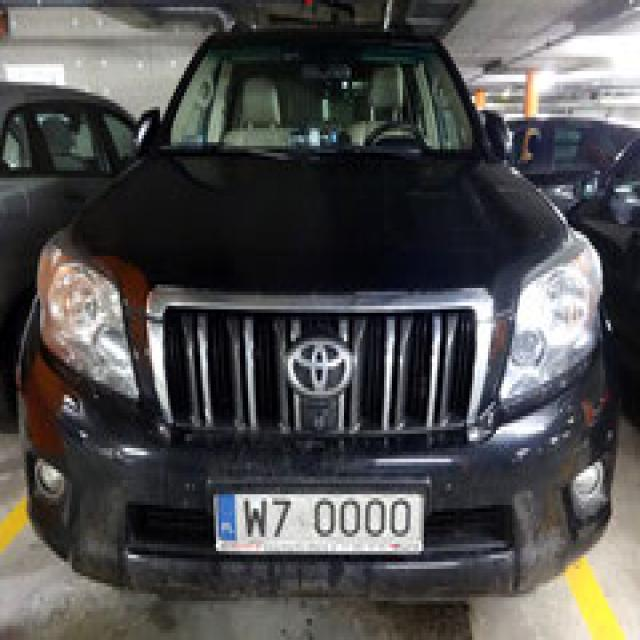pl_license_plate: (216, 491, 416, 537)
